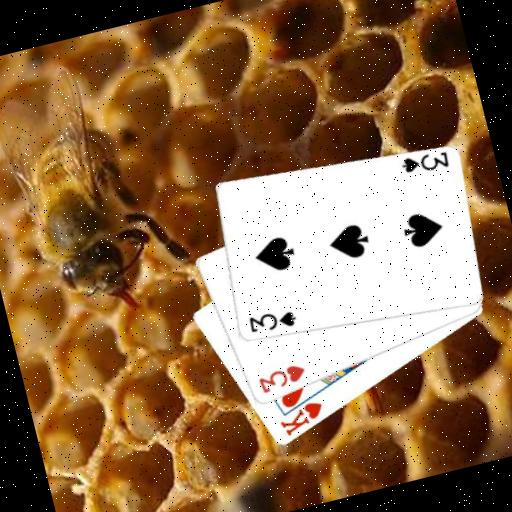3H: (254, 360, 310, 397)
3S: (244, 304, 299, 339), (397, 145, 452, 180)
KH: (274, 397, 329, 440)
